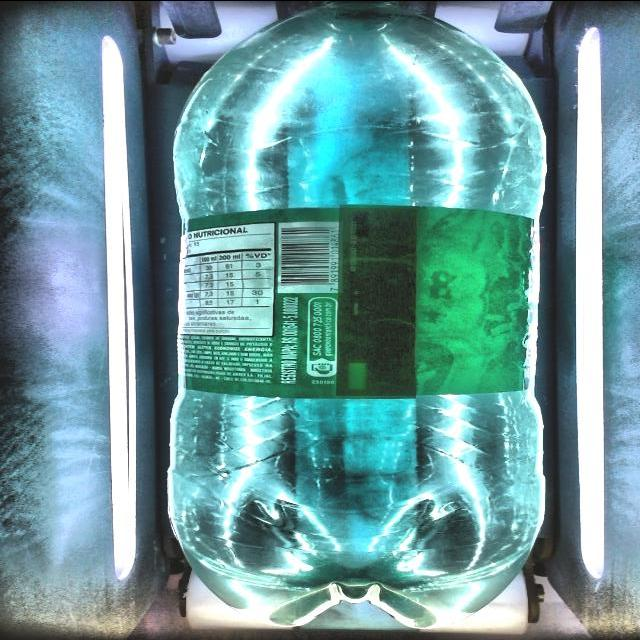bottom: (170, 390, 543, 627)
code: (278, 222, 339, 293)
label: (178, 204, 533, 397)
neck: (282, 4, 442, 38)
